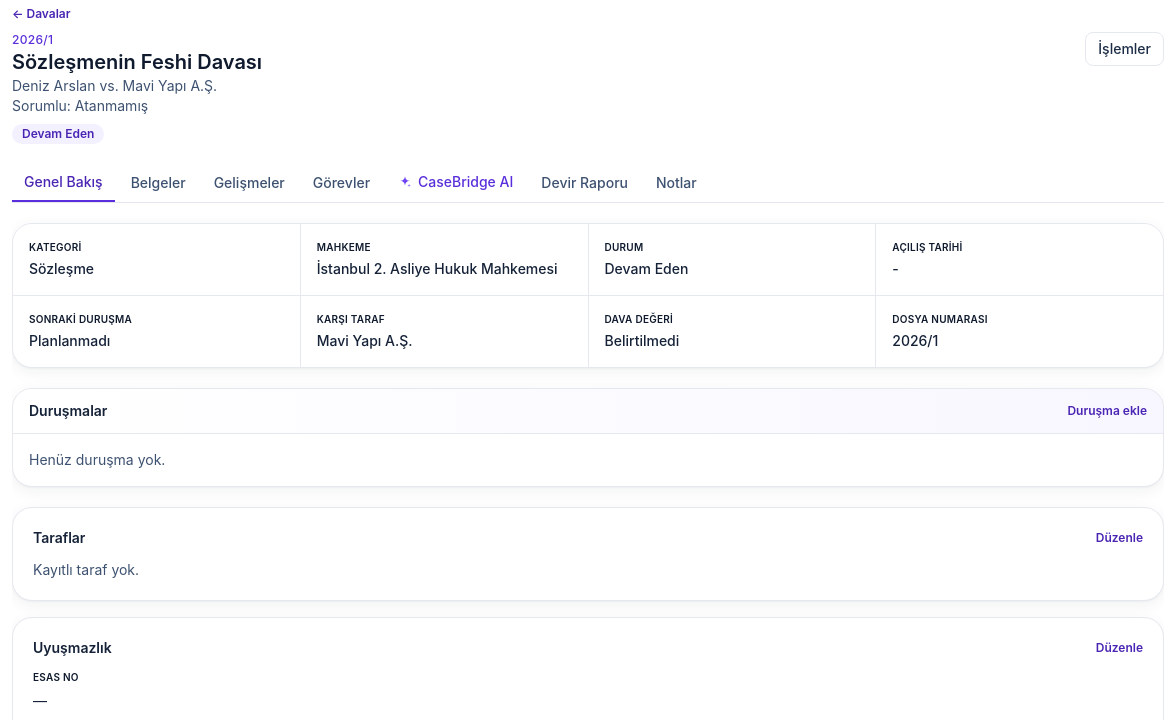
it: CaseDetailView › resumes polling an in-flight simulation found on load (refresh-safe)
Expected: the heading "Sözleşmenin Feshi Davası" is shown, [12, 48, 262, 76]
Click the tab "CaseBridge AI" at {"x": 456, "y": 183}, box [386, 164, 525, 202]
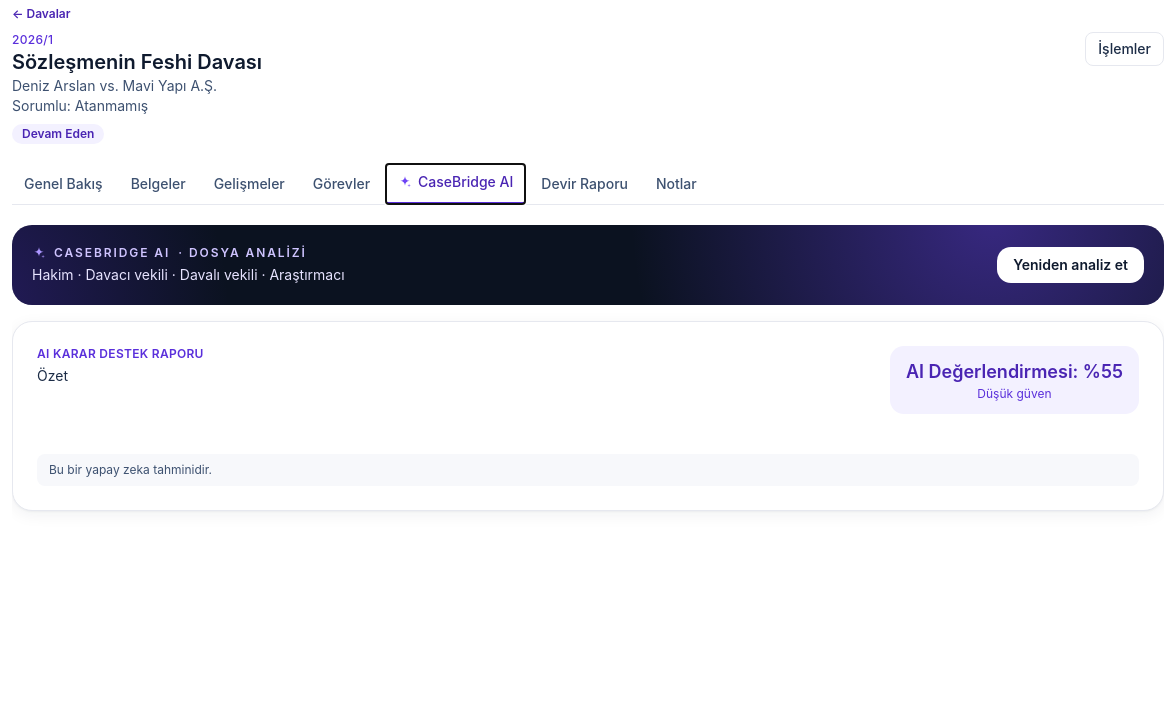
Expected: the text "AI Değerlendirmesi: %55" is shown, [906, 358, 1123, 386]
